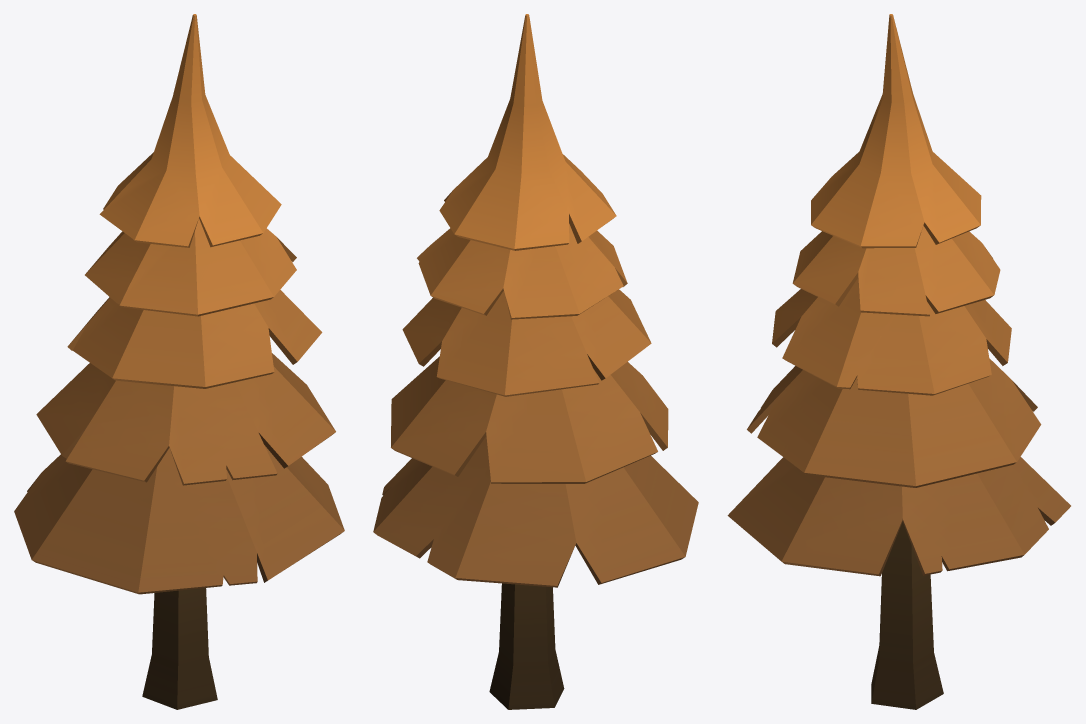
The model's file is Autumn_Tree_04.glb.
3 views of the same model, side by side, from view 1: azimuth 30°, elevation 25°; view 2: azimuth 150°, elevation 25°; view 3: azimuth 270°, elevation 25° (orthographic).
Visible parts, largest first — view 1: Autumn_Tree_04_LOD0; view 2: Autumn_Tree_04_LOD0; view 3: Autumn_Tree_04_LOD0.
Part boxes in pixels (<box>): Autumn_Tree_04_LOD0: <box>14,14,344,709</box>; Autumn_Tree_04_LOD0: <box>373,14,698,709</box>; Autumn_Tree_04_LOD0: <box>727,14,1070,709</box>.
Size of what is drawn, in the model's own units: 1.58 by 3.56 by 1.63.
1 material, 1 textured.
